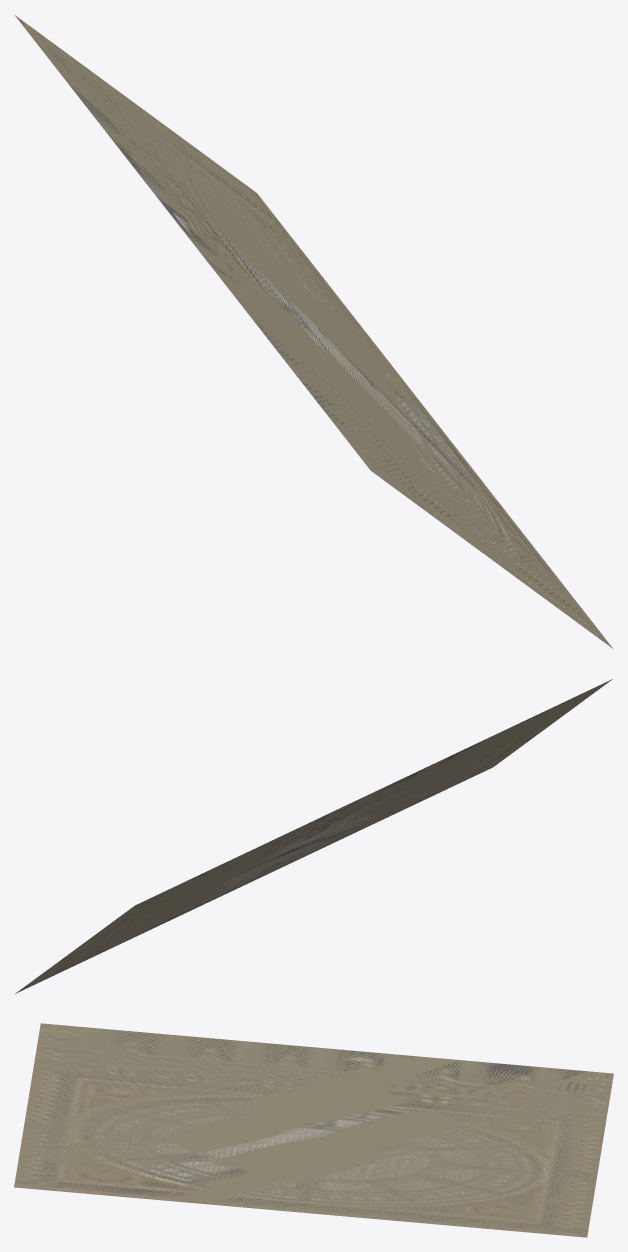
File: 大本钟97.dae
The picture shows the model from 3 angles, top to bottom: view 1: azimuth 30°, elevation 25°; view 2: azimuth 150°, elevation 25°; view 3: azimuth 270°, elevation 25°; orthographic projection. The views are drawn at different scales.
Parts seen in each view (by area): view 1: SketchUp; view 2: SketchUp; view 3: SketchUp.
Boxes of the visible parts, x1,y1,x2,y2 form: SketchUp: (15, 15, 612, 648); SketchUp: (15, 679, 612, 993); SketchUp: (14, 1023, 613, 1237).
Size of the model in its own units: 16.92 by 40.94 by 8.25.
